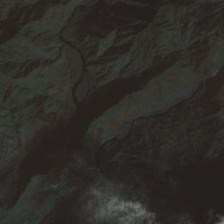landslides: (92, 122, 100, 137)
